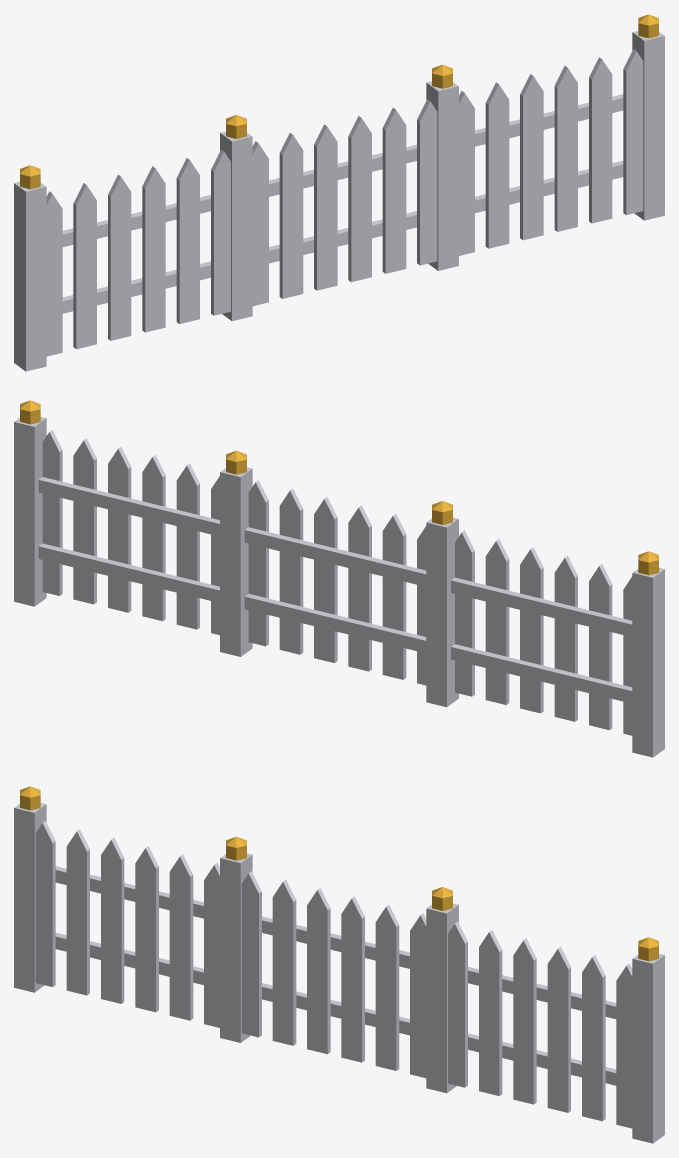
File: prop-fence-gate.glb
The picture shows the model from 3 angles, top to bottom: view 1: azimuth 30°, elevation 25°; view 2: azimuth 150°, elevation 25°; view 3: azimuth 330°, elevation 25°; orthographic projection.
Visible parts, largest first — view 1: fence_g_paint_white, gate_g_paint_white, fence_g_gold; view 2: fence_g_paint_white, gate_g_paint_white, fence_g_gold; view 3: fence_g_paint_white, gate_g_paint_white, fence_g_gold.
Part boxes in pixels (x1,y1,x2,y2): fence_g_paint_white: (14,31,664,371); gate_g_paint_white: (252,99,437,306); fence_g_gold: (20,14,658,189); fence_g_paint_white: (14,417,664,757); gate_g_paint_white: (244,480,426,685); fence_g_gold: (20,400,658,575); fence_g_paint_white: (14,803,664,1143); gate_g_paint_white: (241,871,426,1078); fence_g_gold: (20,786,658,961).
Bounding box in the file's own units: 3.72 × 1.11 × 0.12.
